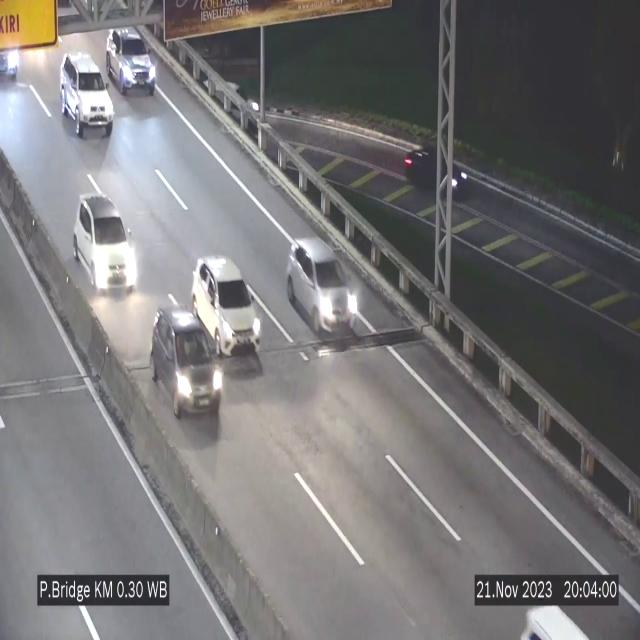Car: (152, 308, 224, 418), (192, 257, 262, 355), (286, 237, 356, 335), (73, 194, 137, 290), (60, 52, 114, 138), (106, 27, 156, 95)
